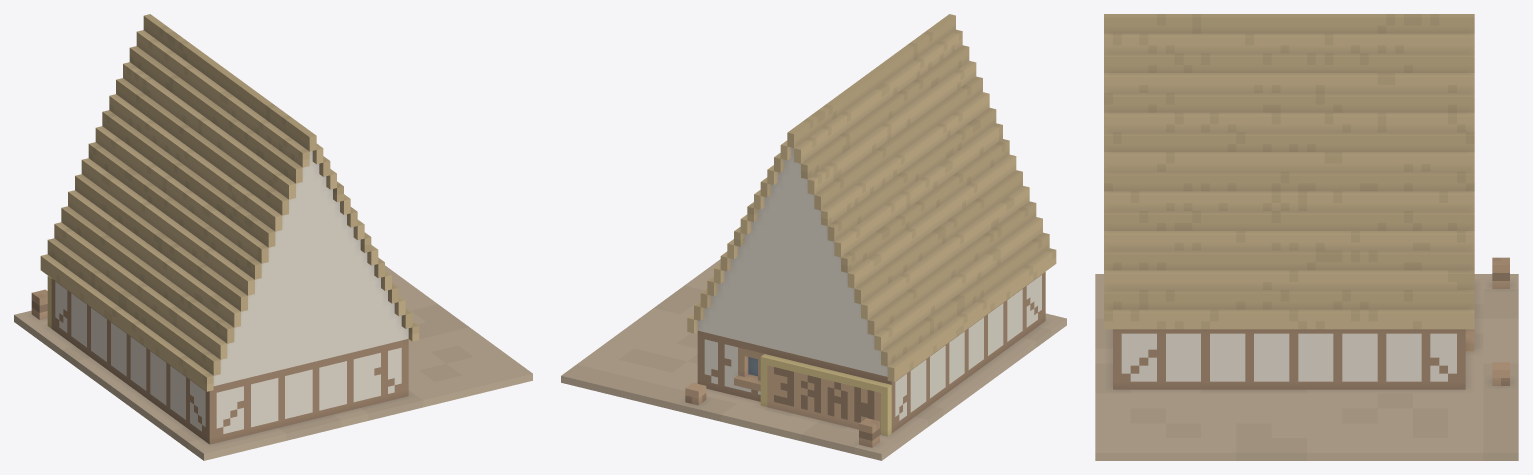
The model's file is warehouse.l1.glb.
3 renders of one model, left to right at view 1: azimuth 30°, elevation 25°; view 2: azimuth 150°, elevation 25°; view 3: azimuth 270°, elevation 25°, orthographic. The views are drawn at different scales.
Visible parts, largest first — view 1: warehouse; view 2: warehouse; view 3: warehouse.
Boxes of the visible parts, x1,y1,x2,y2 form: warehouse: (14, 14, 532, 460); warehouse: (561, 14, 1066, 460); warehouse: (1095, 14, 1518, 460).
Bounding box in the file's own units: 6 × 5.12 × 6.
